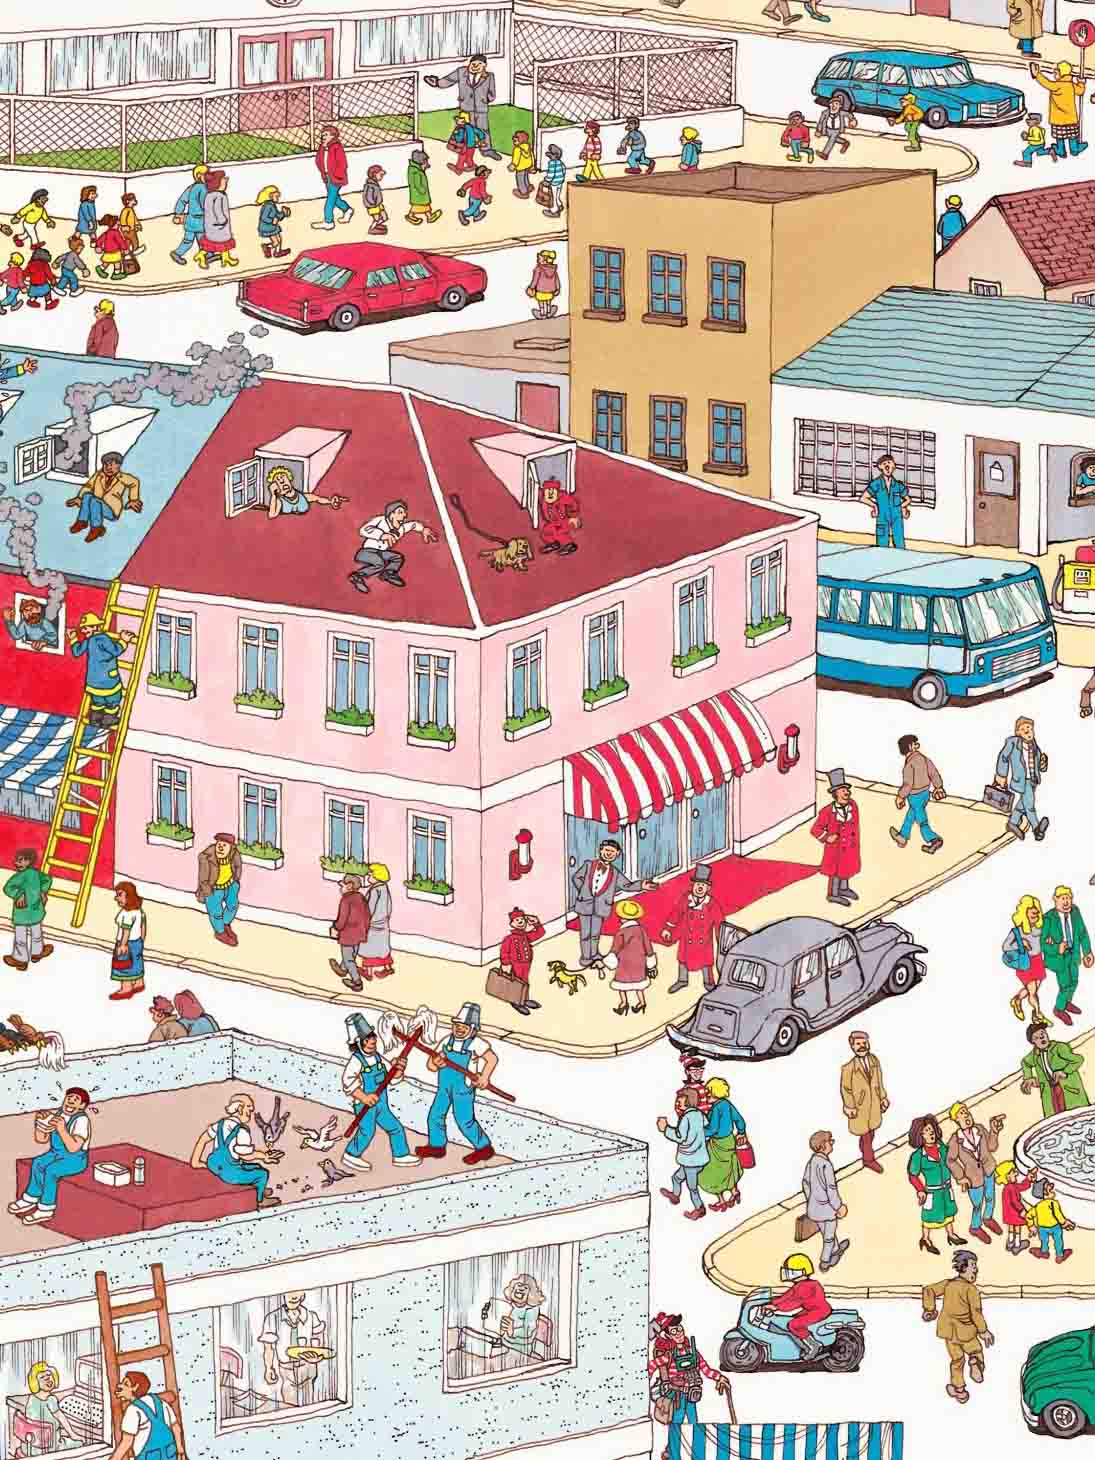waldo: (654, 1306, 689, 1345)
